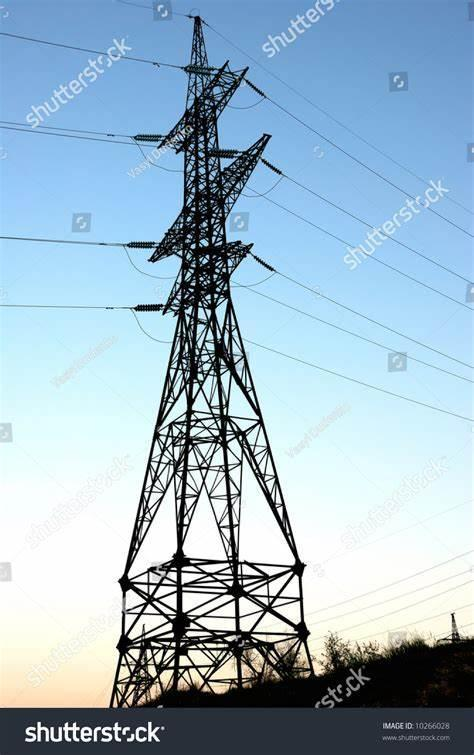power_tower: (90, 9, 319, 701)
